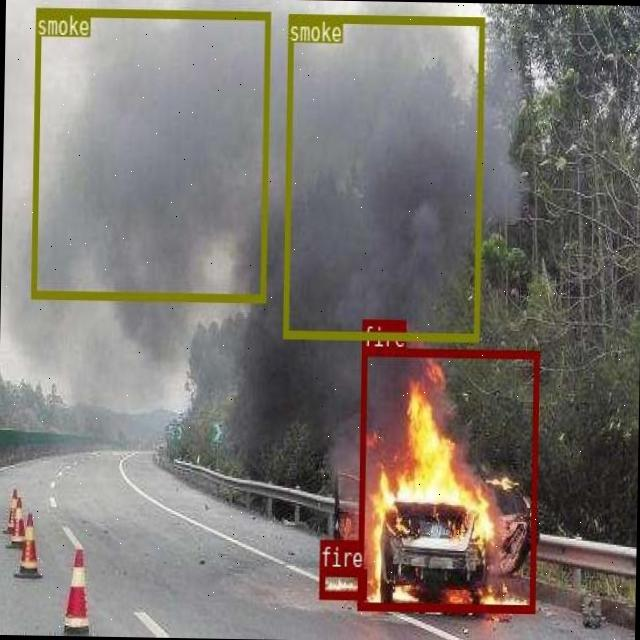fire: (356, 347, 538, 610), (318, 567, 365, 598)
smoke: (31, 6, 270, 300), (282, 13, 484, 340)
